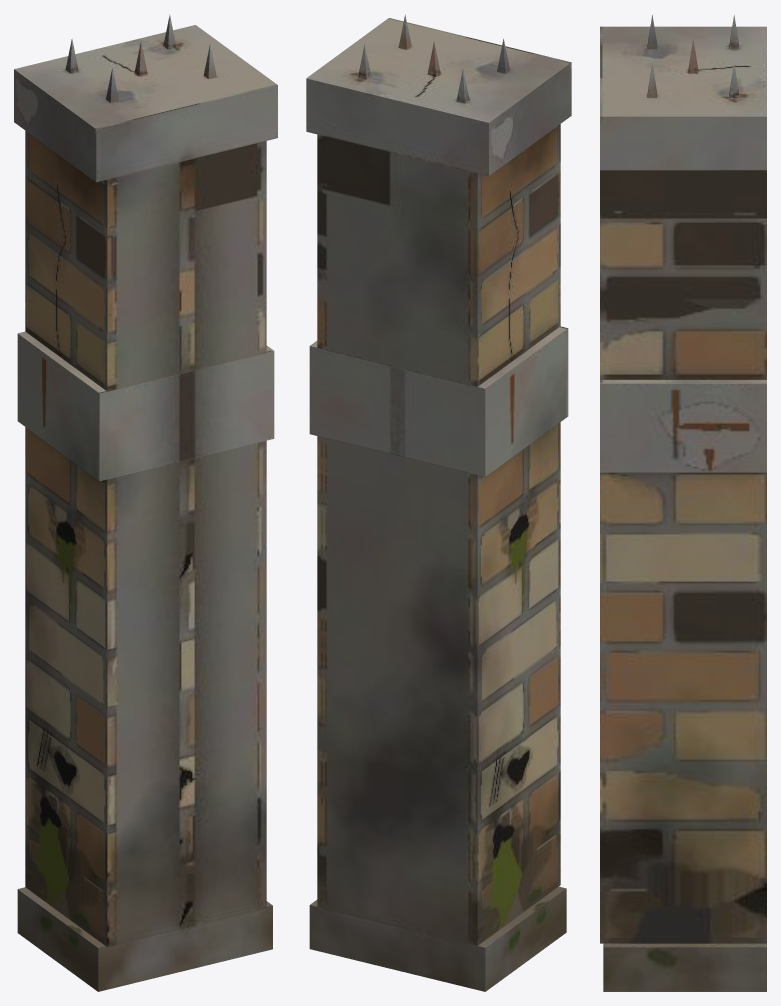
File: muro_tijolo_lado.glb
3 renders of one model, left to right at view 1: azimuth 30°, elevation 25°; view 2: azimuth 150°, elevation 25°; view 3: azimuth 270°, elevation 25°, orthographic.
Visible parts, largest first — view 1: muro_tijolo_lado_corpo; view 2: muro_tijolo_lado_corpo; view 3: muro_tijolo_lado_corpo.
Boxes of the visible parts, x1,y1,x2,y2 form: muro_tijolo_lado_corpo: (14,14,277,991); muro_tijolo_lado_corpo: (306,14,571,991); muro_tijolo_lado_corpo: (600,15,766,991).
Bounding box in the file's own units: 0.26 × 1.23 × 0.204.
Materials: 1 (1 with a texture image).
